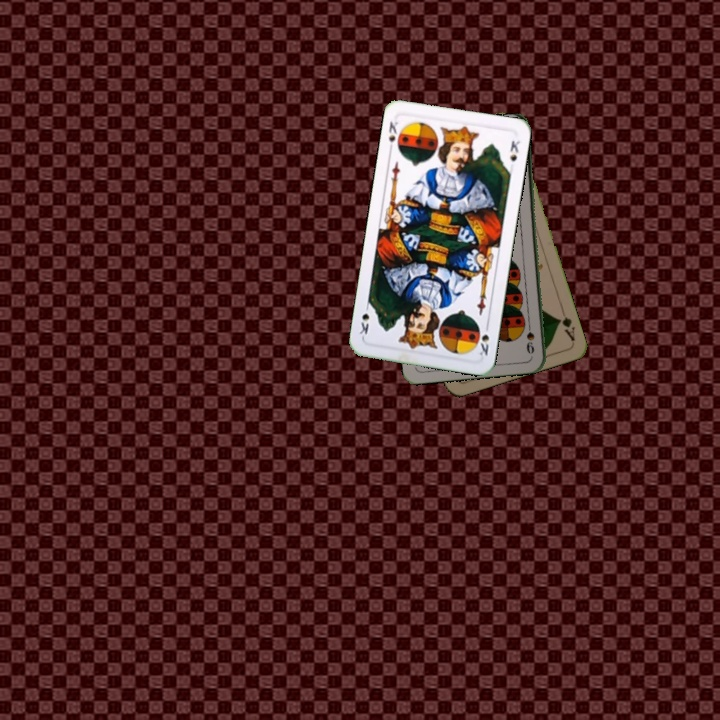GA: (554, 305, 577, 344)
S9: (524, 316, 537, 356)
SK: (475, 319, 492, 358), (384, 117, 400, 154)
